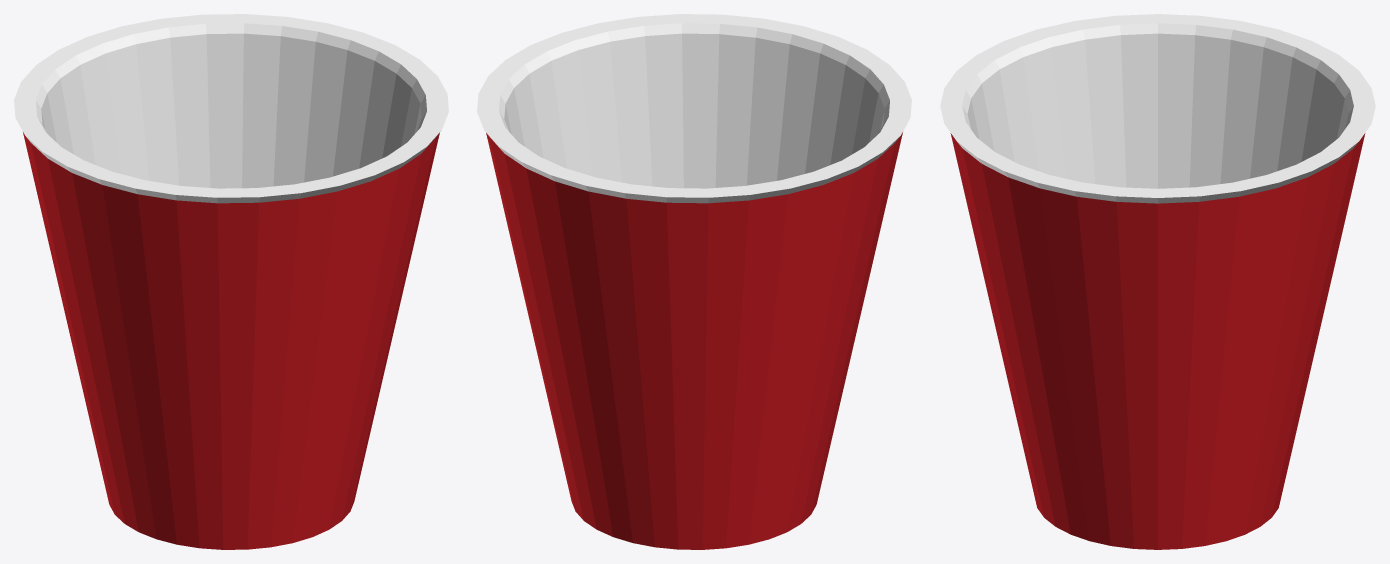
The model's file is Red Cup.fbx.
3 renders of one model, left to right at view 1: azimuth 30°, elevation 25°; view 2: azimuth 150°, elevation 25°; view 3: azimuth 270°, elevation 25°, orthographic.
Parts seen in each view (by area): view 1: Mesh; view 2: Mesh; view 3: Mesh.
Part boxes in pixels (x1,y1,x2,y2): Mesh: (14, 14, 448, 549); Mesh: (477, 14, 911, 549); Mesh: (940, 14, 1375, 549).
Size of the model in its own units: 206 by 204 by 206.
